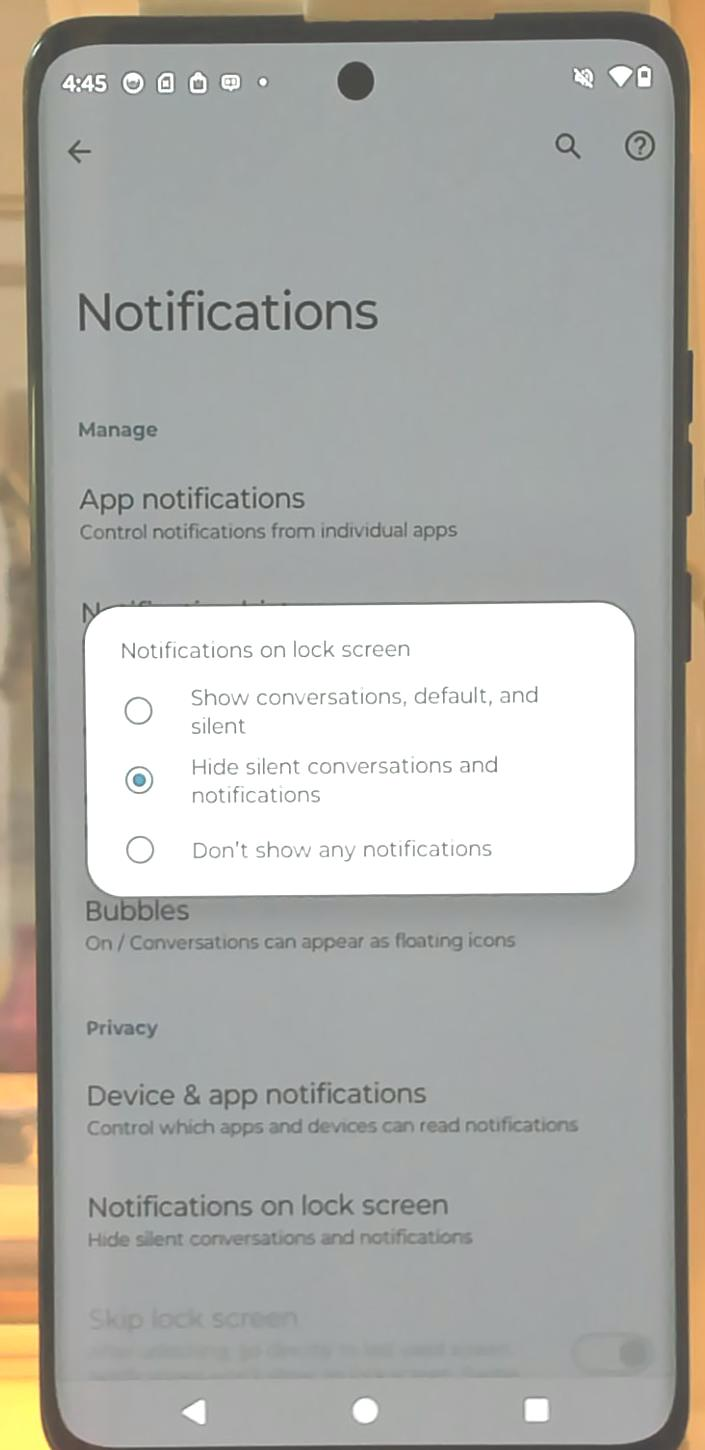RadioButton: (122, 745, 501, 813), (122, 684, 543, 732), (121, 826, 498, 871)
